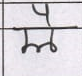ai_matra: (32, 2, 56, 27)
